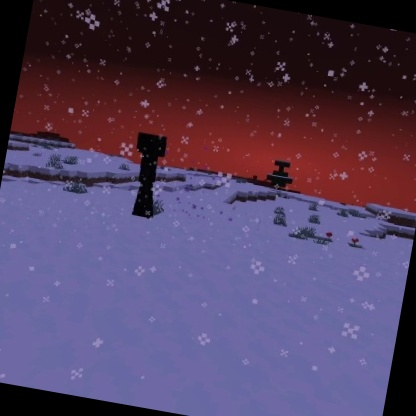enderman: (121, 130, 171, 222)
